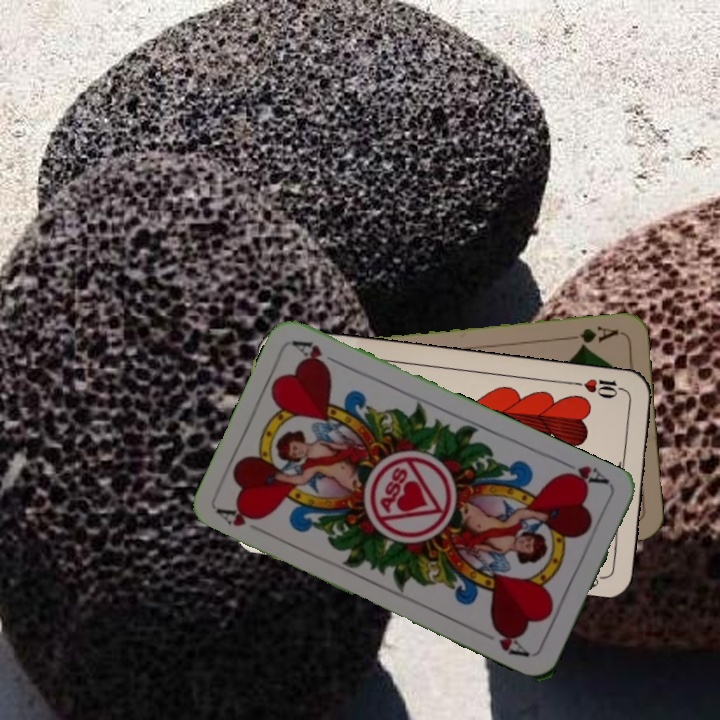GA: (563, 321, 621, 350)
H10: (570, 374, 629, 402)
HA: (554, 456, 613, 490), (214, 503, 270, 537)
